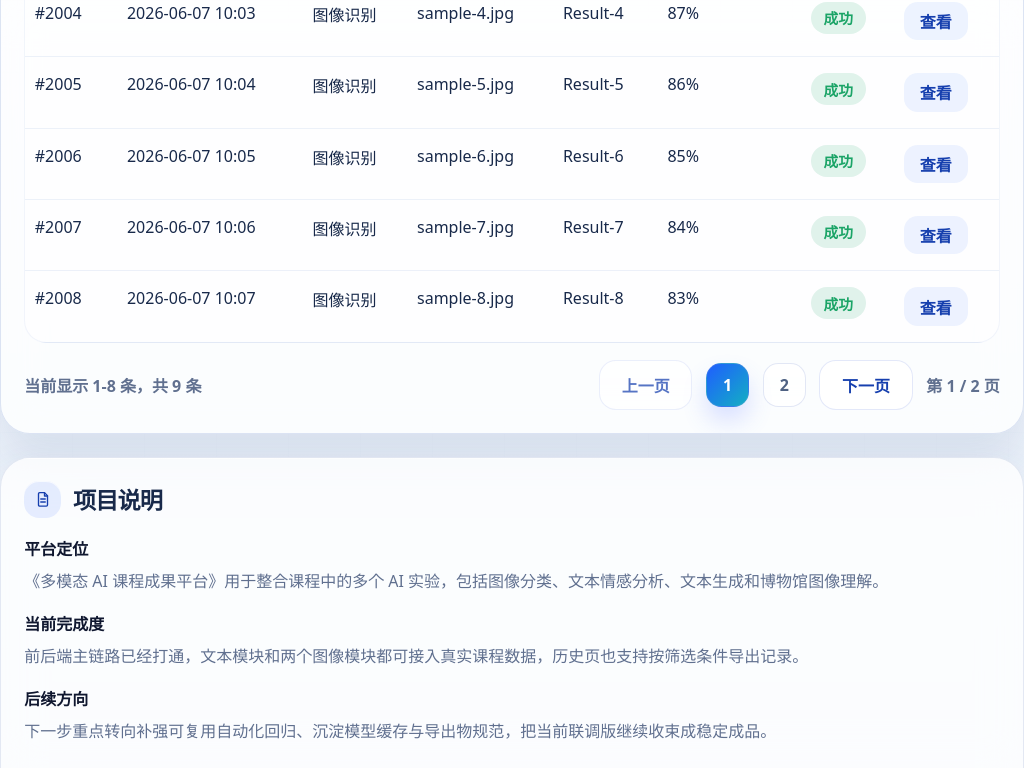
Test: HistoryPage › paginates history records in groups of eight
This screenshot has width=1024, height=768.
(page scrolled)
Expected: the text "#2008" is shown, [25,271,117,342]
Expected: the text "#2009" is not shown
Click the button "下一页": (866, 385) [820,360,913,410]
(page scrolled)
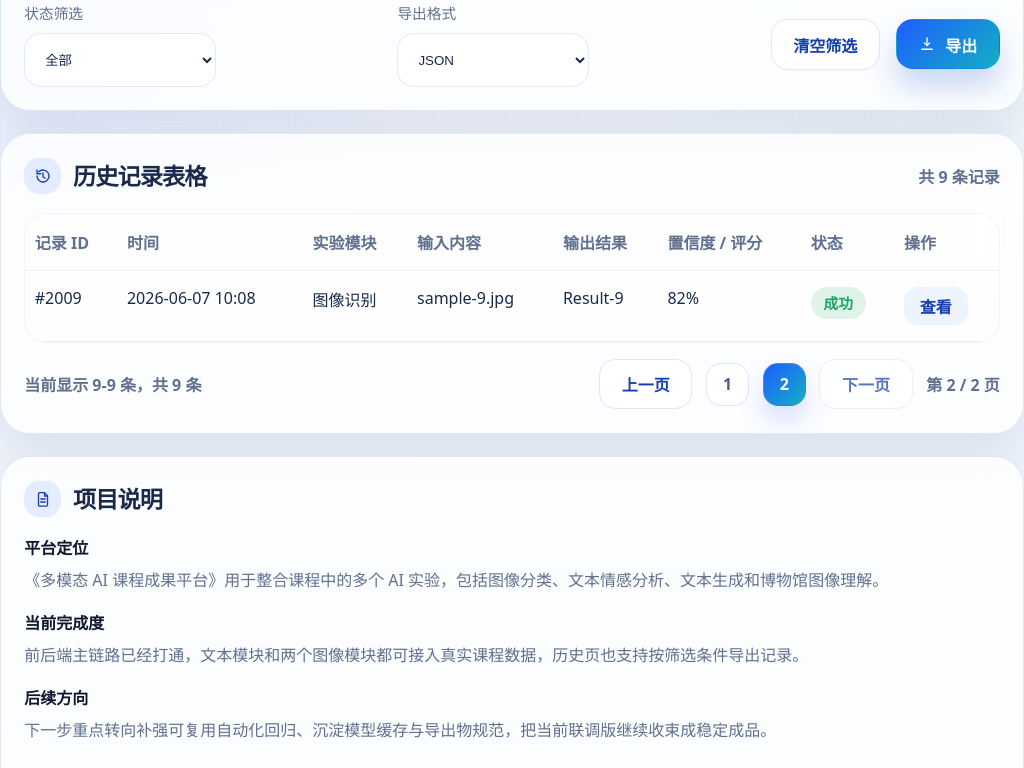
Now the text "#2009" is shown, box [25,270,117,342]
Now the text "当前显示 9-9 条，共 9 条" is shown, box [24,372,202,396]
Now the text "第 2 / 2 页" is shown, box [926,372,1000,396]
